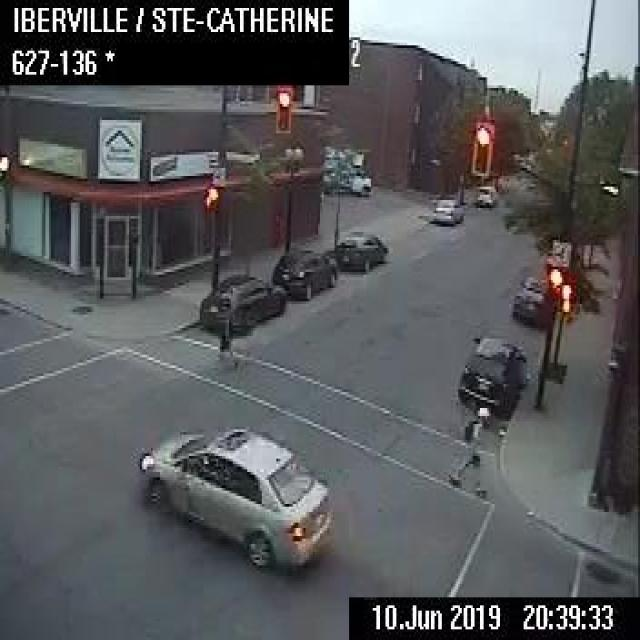pedestrian: (447, 402, 495, 498), (213, 280, 240, 365)
vehicle: (136, 421, 340, 576), (457, 328, 528, 421), (198, 268, 286, 336), (270, 246, 336, 298), (321, 145, 370, 195), (333, 228, 389, 271), (508, 272, 547, 325), (429, 192, 466, 224), (473, 181, 496, 208)
